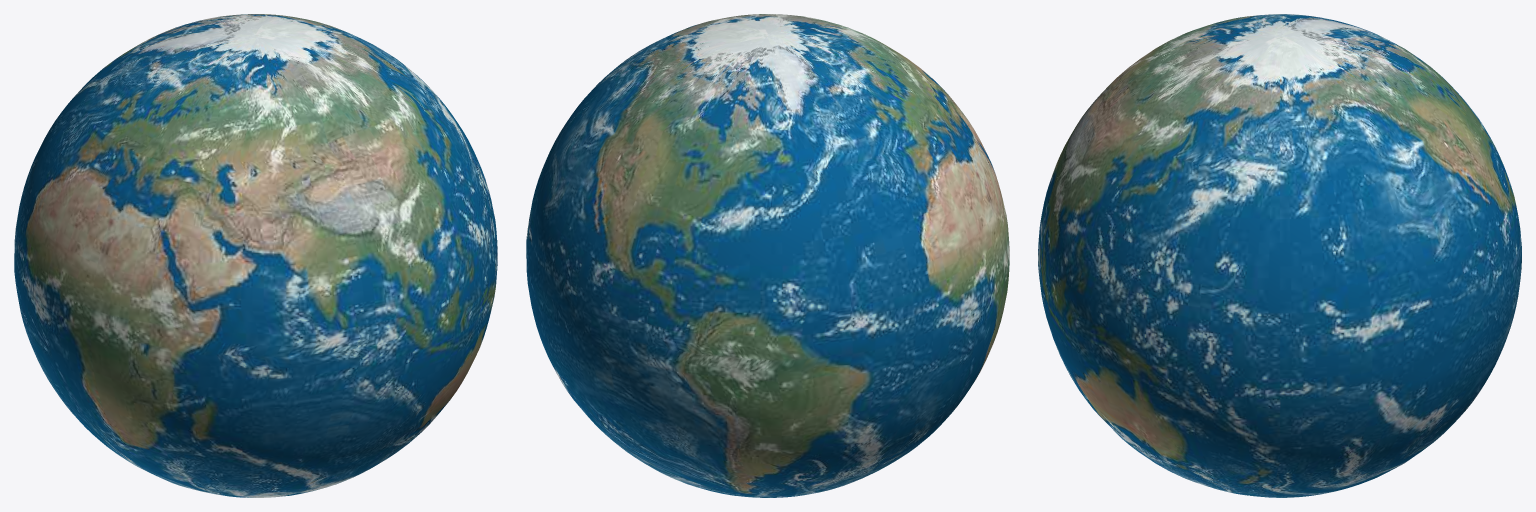
File: ball2.obj
The picture shows the model from 3 angles, left to right: view 1: azimuth 30°, elevation 25°; view 2: azimuth 150°, elevation 25°; view 3: azimuth 270°, elevation 25°; orthographic projection.
Size of the model in its own units: 1 by 1 by 1.
1 material, 1 textured.
